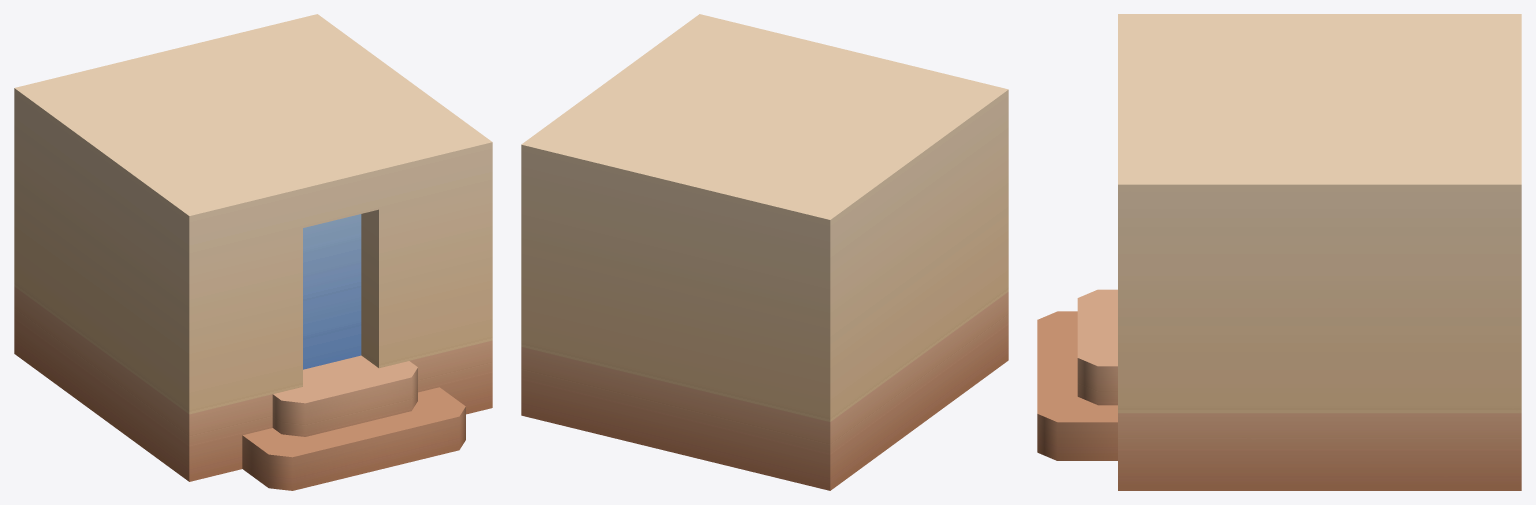
Rendered from building-steps-wide.glb.
3 renders of one model, left to right at view 1: azimuth 30°, elevation 25°; view 2: azimuth 150°, elevation 25°; view 3: azimuth 270°, elevation 25°, orthographic. The views are drawn at different scales.
Parts seen in each view (by area): view 1: building-steps-wide; view 2: building-steps-wide; view 3: building-steps-wide.
Boxes of the visible parts, box(x1,y1,x2,y2) form: building-steps-wide: box(14, 14, 492, 490); building-steps-wide: box(521, 14, 1008, 490); building-steps-wide: box(1037, 14, 1521, 490).
Size of the model in its own units: 1 by 0.8375 by 1.2.
1 material, 1 textured.
